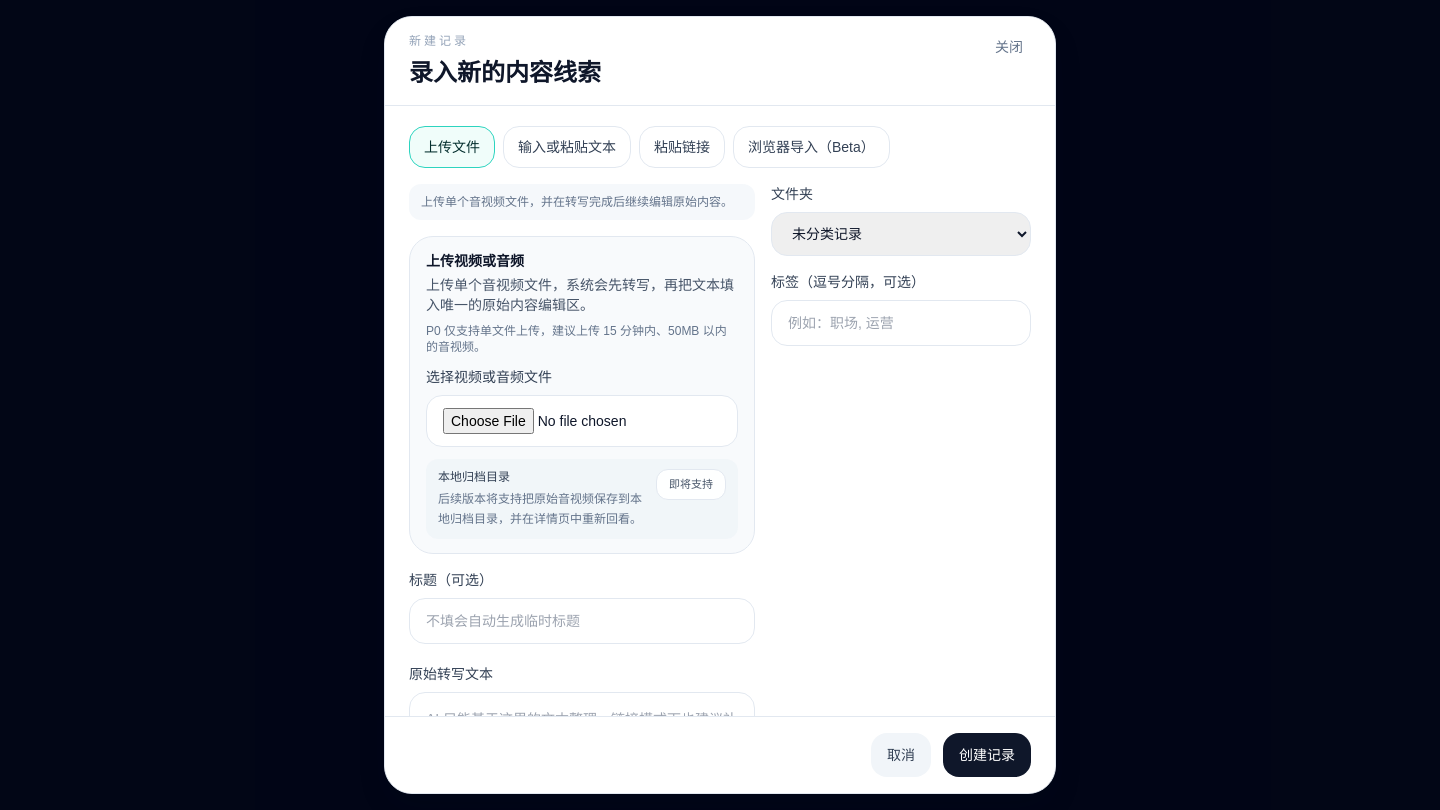
Test: CreateRecordModal upload flow › preserves user-edited fields on repeated paste-link imports unless the field still matches its last autofill snapshot
The image size is (1440, 810).
Click the button "粘贴链接" at (682, 147), box [639,126,725,168]
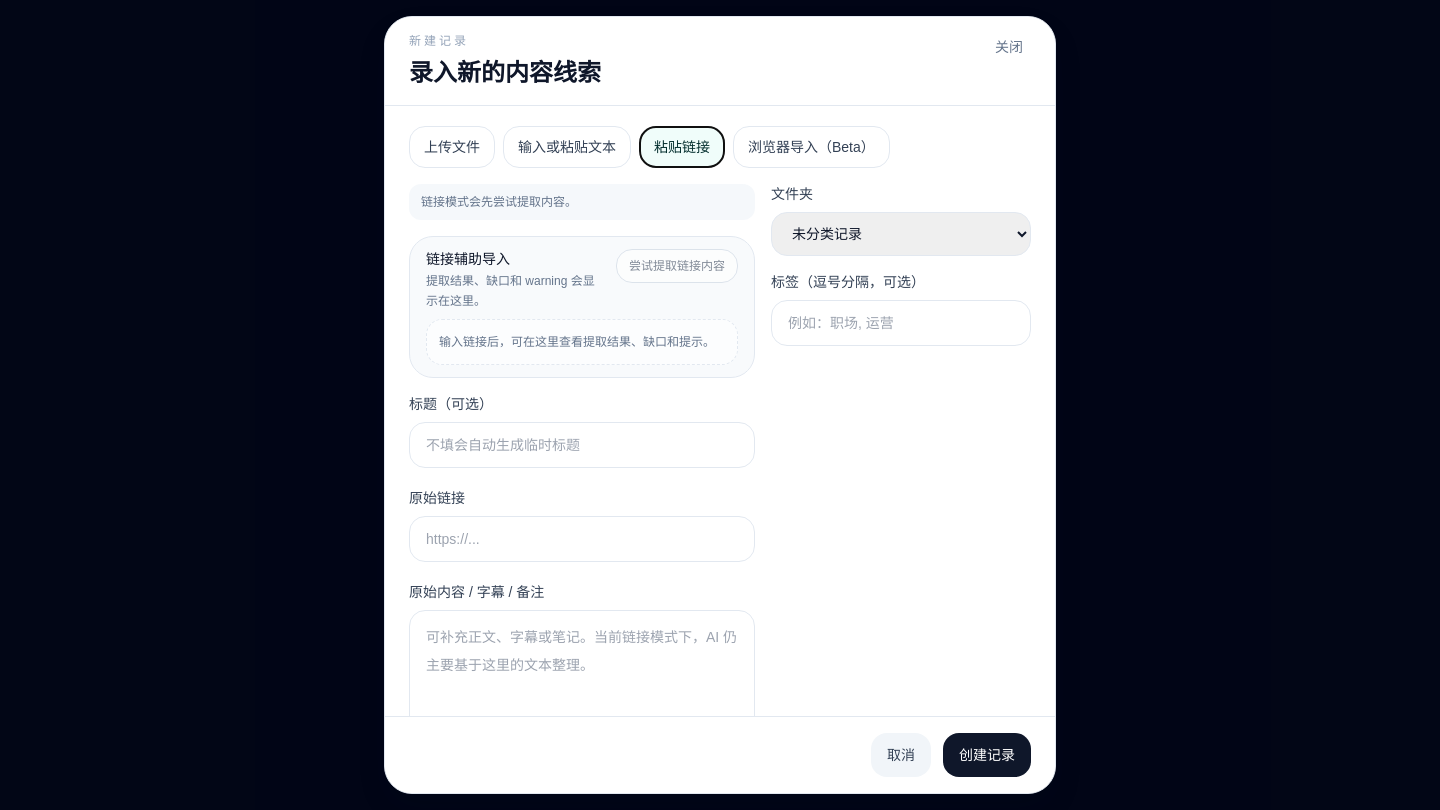
Type "https://example.com/post-1" into the field with placeholder "https://..." at (582, 539), box [409,516,755,562]
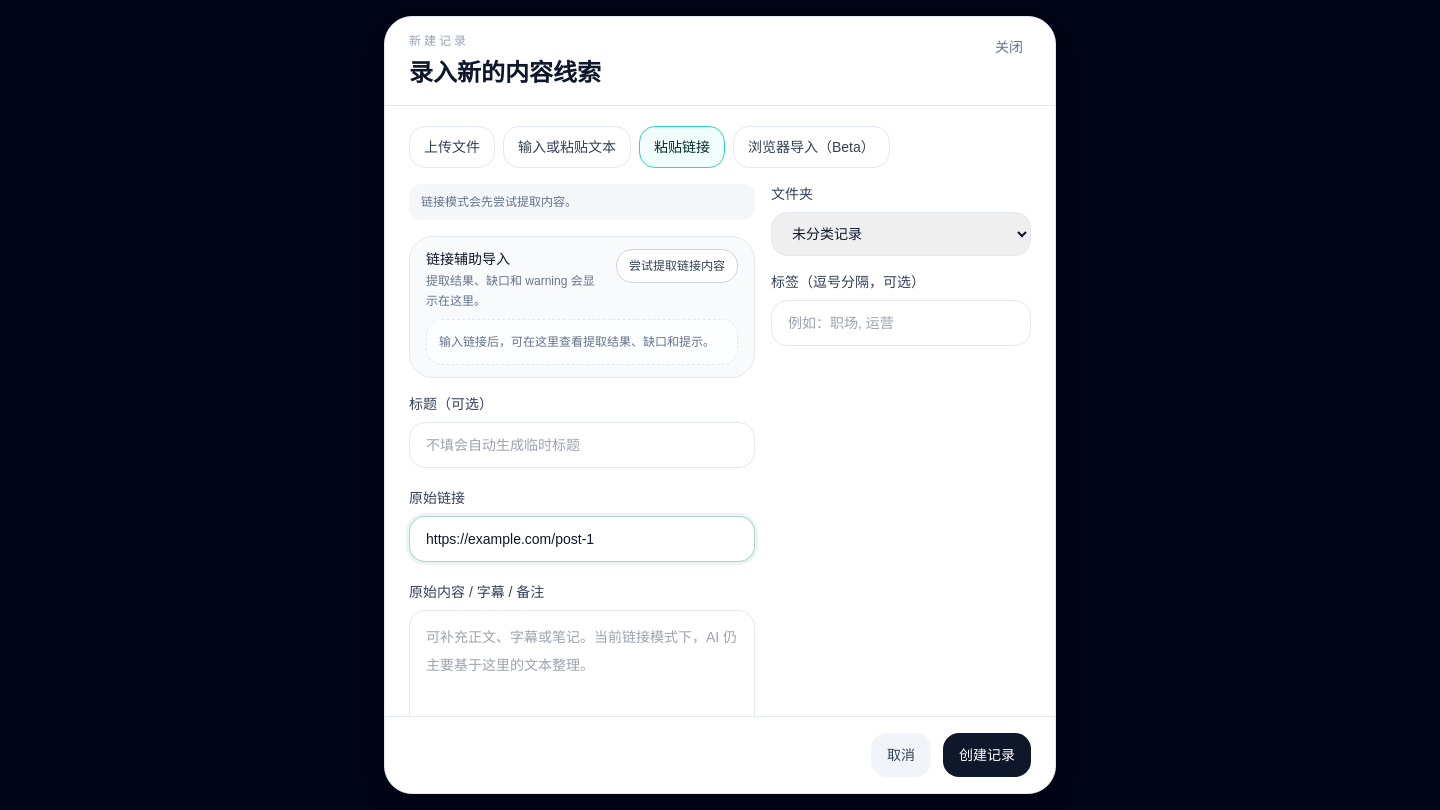
Click the button "尝试提取链接内容" at (677, 266), box [616,249,738,283]
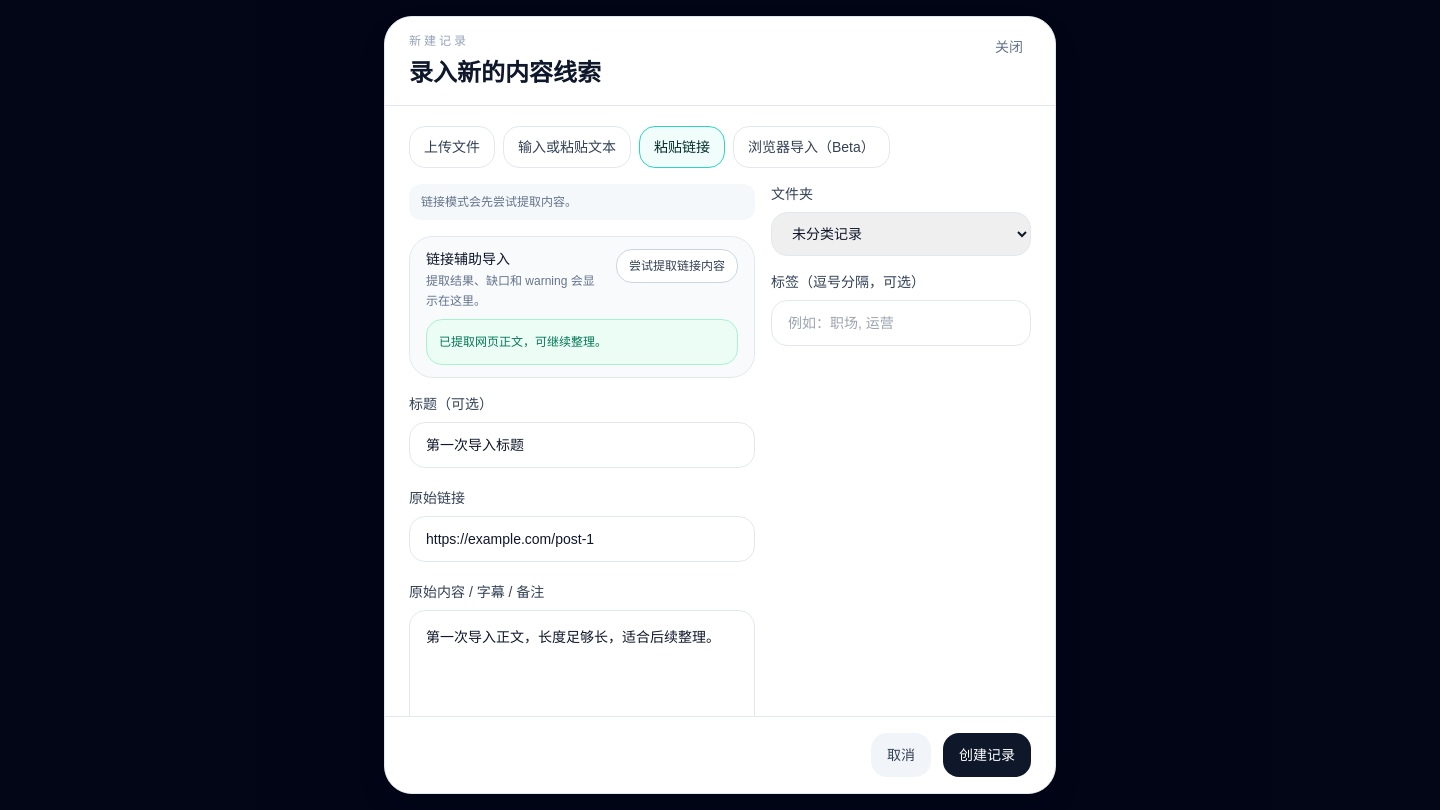
Check: the field showing "第一次导入标题" is shown, box [409,422,755,468]
Replace the text in the text box labelled "原始内容 / 字幕 / 备注" with "这是用户手动修订后的正文，不应被后续导入覆盖。" at (582, 690), box [409,610,755,770]
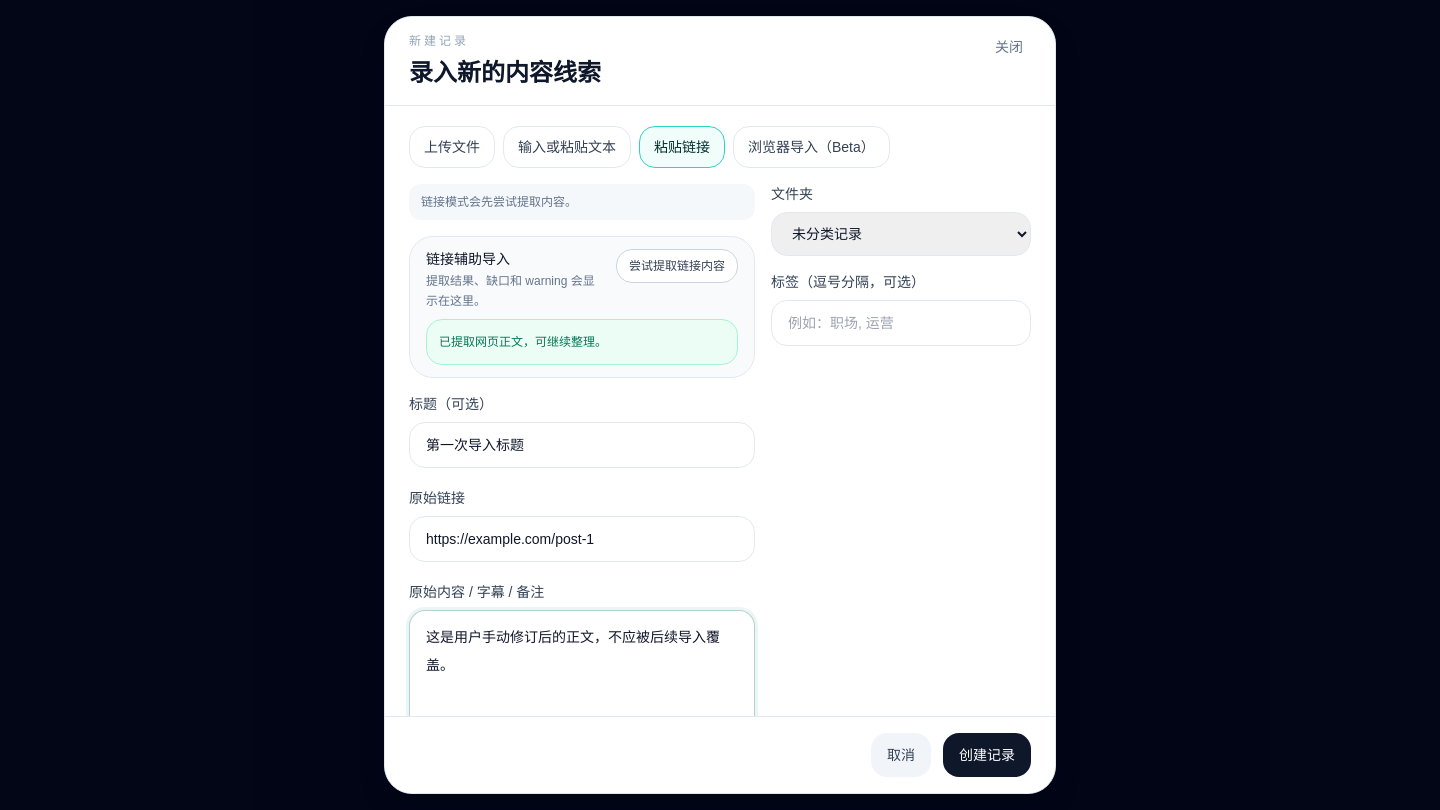
Replace the text in the field with placeholder "https://..." with "https://example.com/post-2" at (582, 539), box [409,516,755,562]
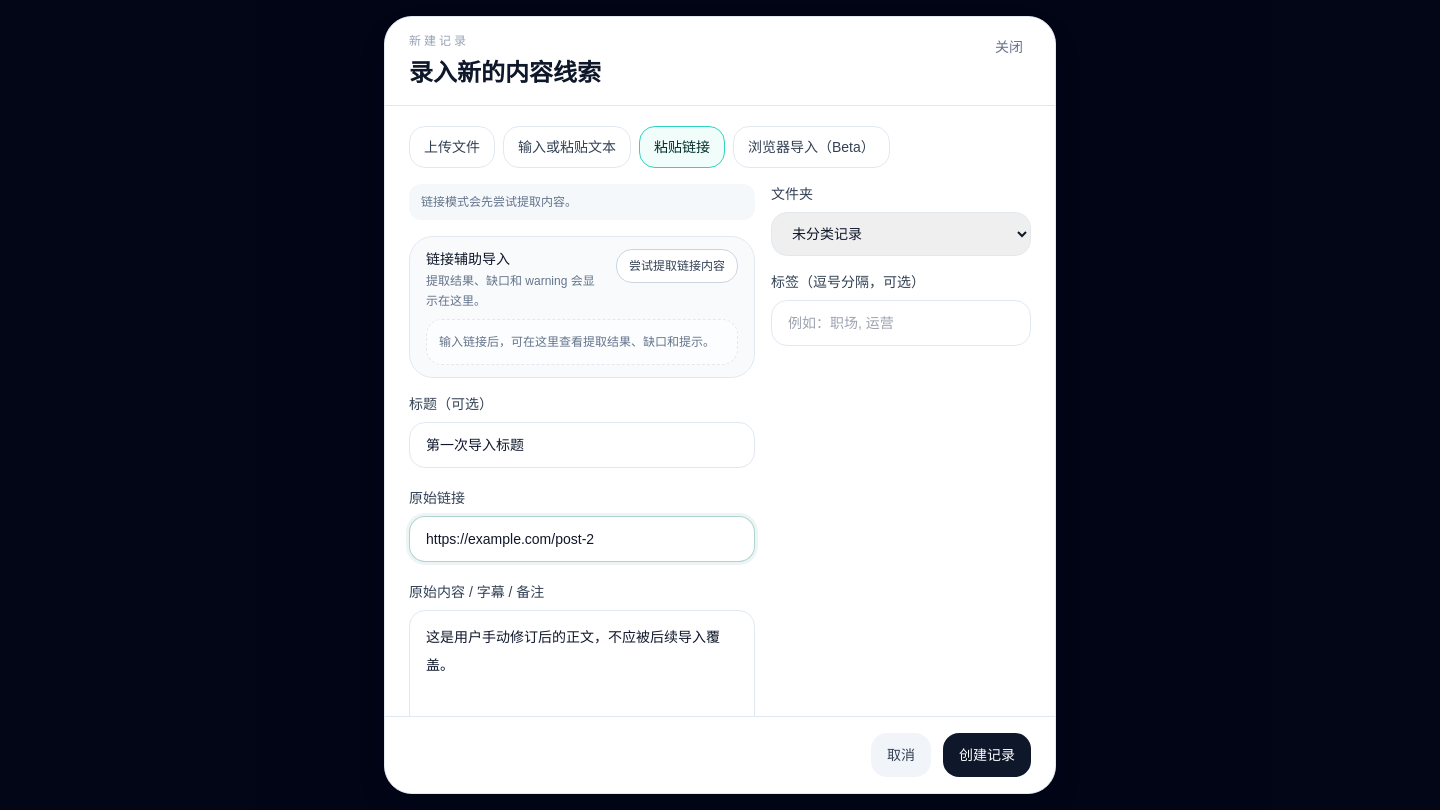
Click the button "尝试提取链接内容" at (677, 266), box [616,249,738,283]
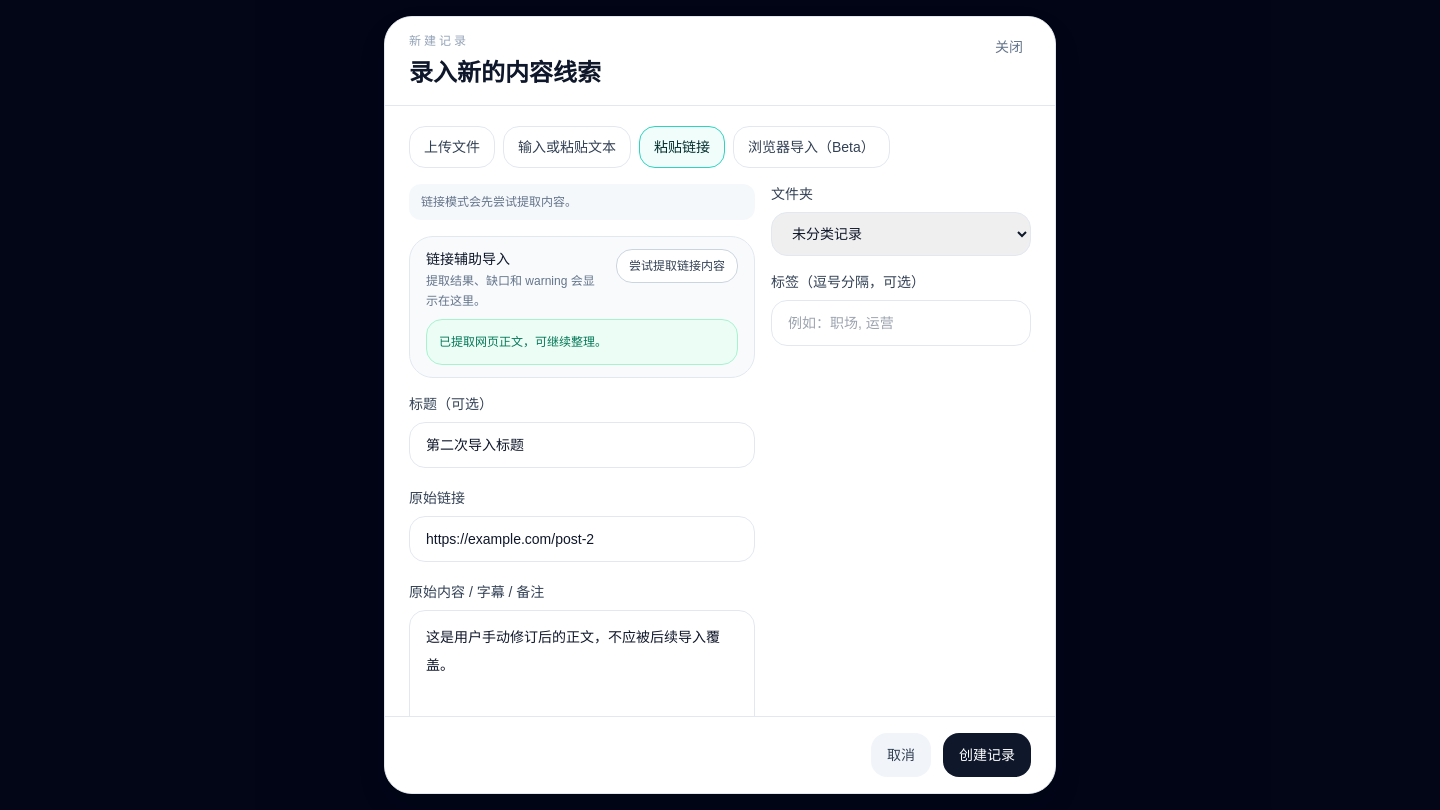
Check: the field showing "第一次导入标题" holds "第二次导入标题", box [409,422,755,468]
